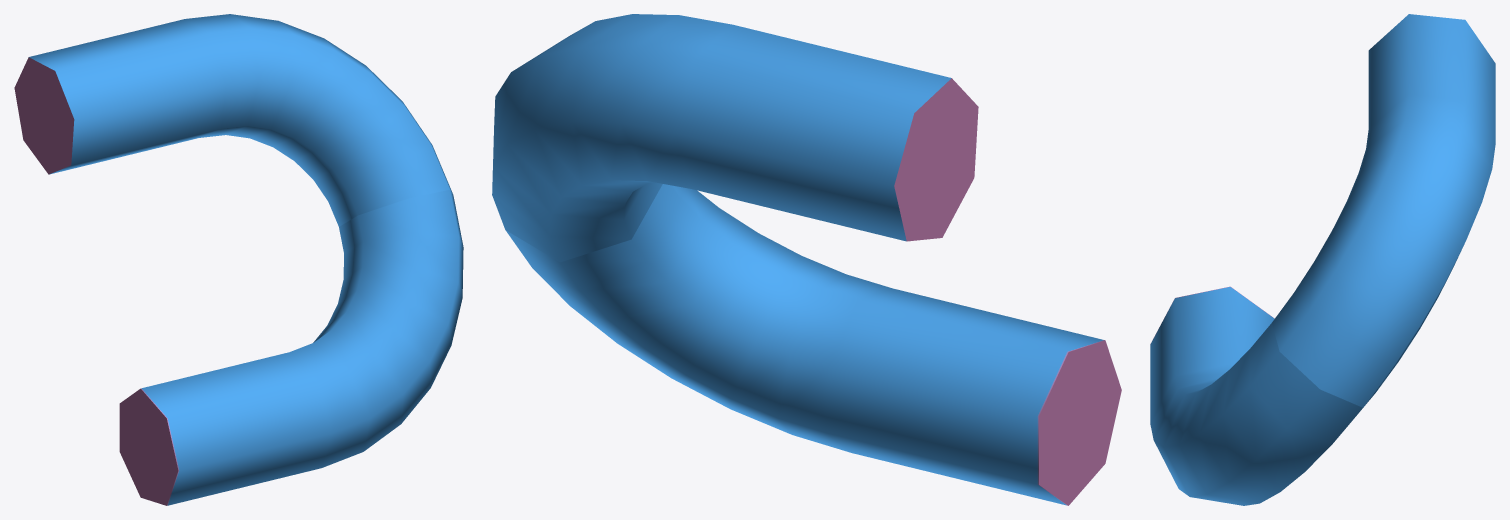
The model's file is Indoor Unite Gradient flow-----.fbx.
3 views of the same model, side by side, from view 1: azimuth 30°, elevation 25°; view 2: azimuth 150°, elevation 25°; view 3: azimuth 270°, elevation 25° (orthographic). The views are drawn at different scales.
Visible parts, largest first — view 1: Indoor Unite Gradient flow-----; view 2: Indoor Unite Gradient flow-----; view 3: Indoor Unite Gradient flow-----.
Part boxes in pixels (left/top/right/bottom): Indoor Unite Gradient flow-----: left=14, top=14, right=463, bottom=505; Indoor Unite Gradient flow-----: left=492, top=14, right=1121, bottom=505; Indoor Unite Gradient flow-----: left=1150, top=14, right=1495, bottom=505.
Size of the model in its own units: 0.0233 by 0.0228 by 0.0184.
Materials: 1 (1 with a texture image).
